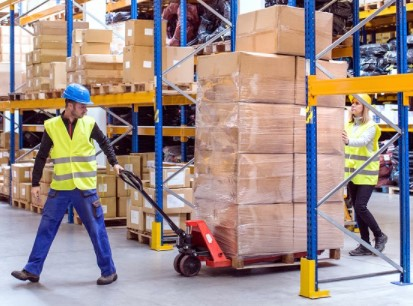stock: (197, 52, 295, 103), (196, 103, 294, 154)
worker: (44, 83, 97, 190), (345, 92, 381, 185)
